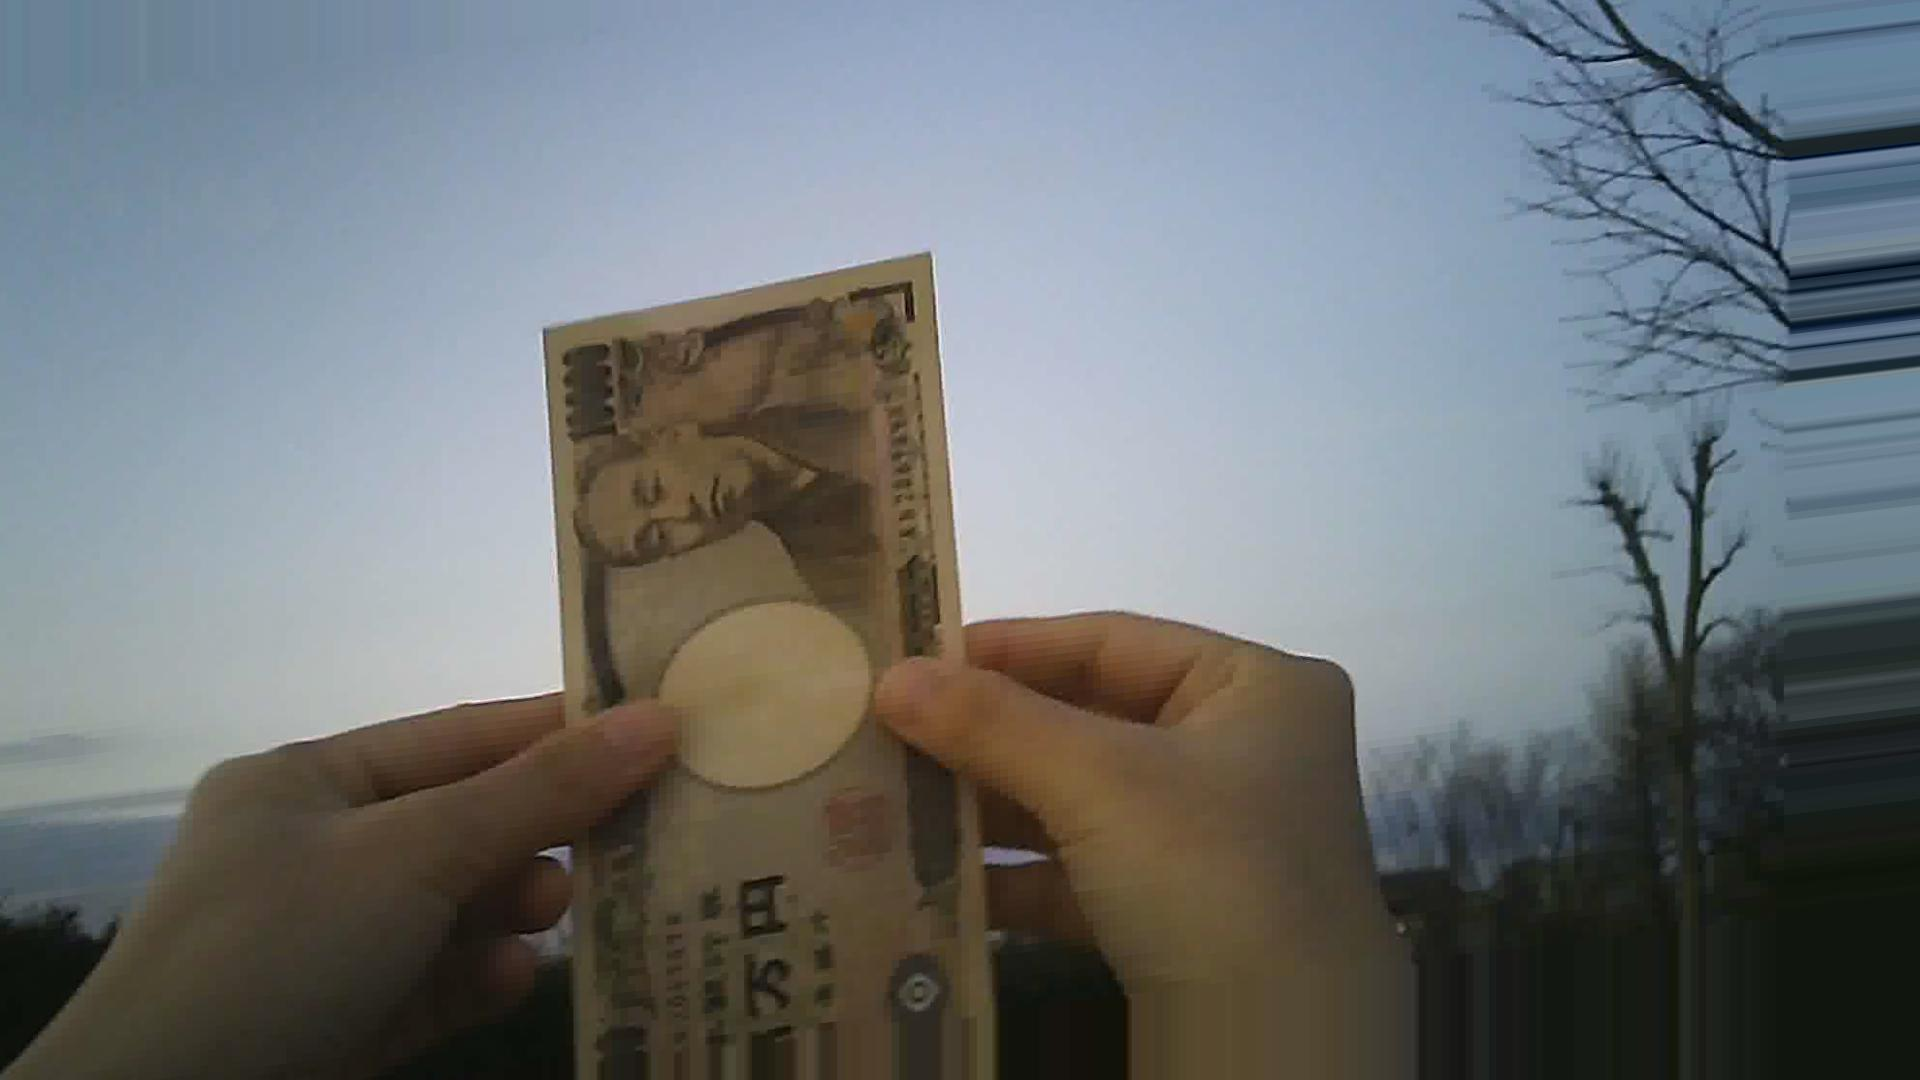10,000 Yen: (531, 276, 1022, 1060)
